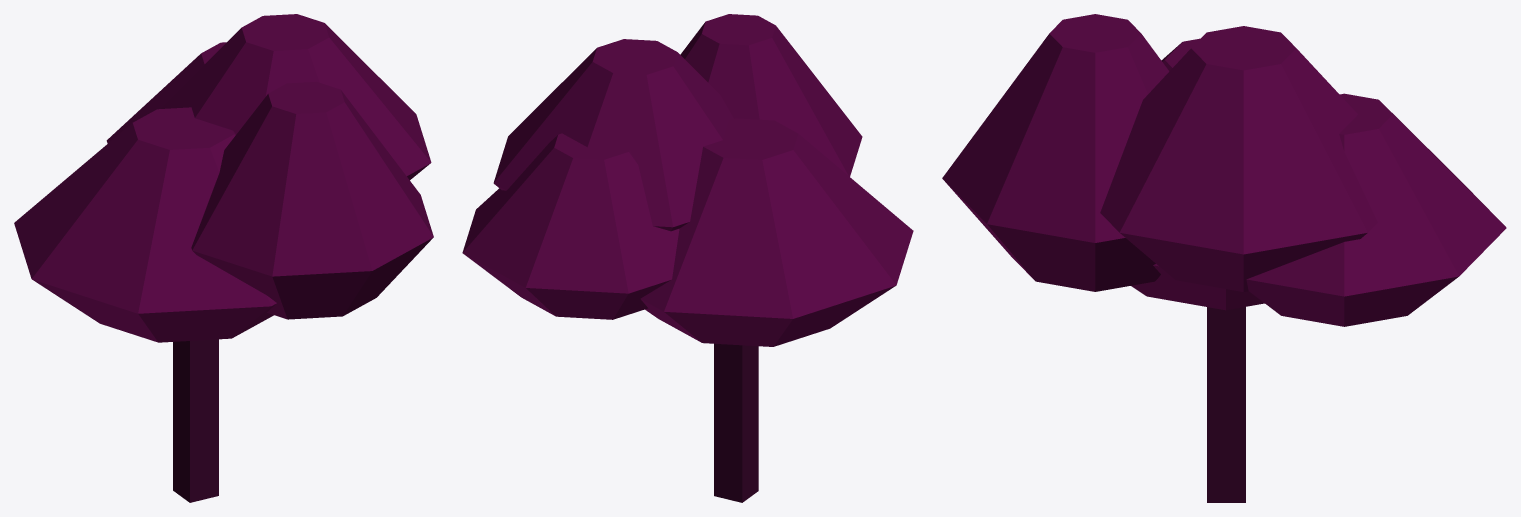
Rendered from tree_c.glb.
The picture shows the model from 3 angles, left to right: view 1: azimuth 30°, elevation 25°; view 2: azimuth 150°, elevation 25°; view 3: azimuth 270°, elevation 25°; orthographic projection. The views are drawn at different scales.
Parts seen in each view (by area): view 1: tree_c; view 2: tree_c; view 3: tree_c.
Part boxes in pixels (box(x1,y1,x2,y2)): tree_c: box(14, 14, 433, 502); tree_c: box(462, 14, 913, 502); tree_c: box(942, 14, 1506, 502).
Size of the model in its own units: 4.72 by 4.96 by 5.06.
